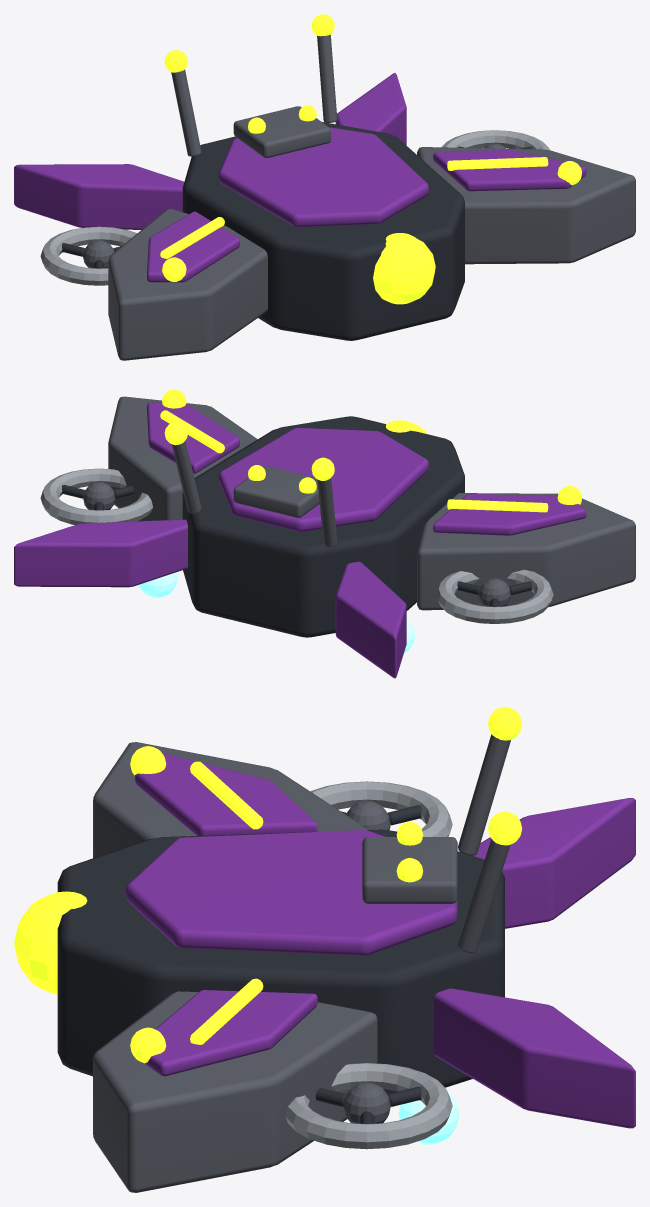
File: aegis_drone_l03.glb
3 renders of one model, top to bottom at view 1: azimuth 30°, elevation 25°; view 2: azimuth 150°, elevation 25°; view 3: azimuth 270°, elevation 25°, orthographic. The views are drawn at different scales.
Visible parts, largest first — view 1: carbon_hull, left_swept_wing, right_swept_wing, upper_violet_armour, left_rear_fin, right_violet_wing_panel, interceptor_eye, left_violet_wing_panel, dorsal_signal_plate, right_rear_fin, left_duct, right_duct (+5 smaller); view 2: carbon_hull, left_swept_wing, upper_violet_armour, right_rear_fin, right_swept_wing, left_rear_fin, left_violet_wing_panel, left_duct, right_duct, right_violet_wing_panel, dorsal_signal_plate, right_aerial (+8 smaller); view 3: carbon_hull, right_swept_wing, upper_violet_armour, right_rear_fin, left_rear_fin, left_swept_wing, right_violet_wing_panel, left_violet_wing_panel, right_duct, dorsal_signal_plate, interceptor_eye, left_duct (+11 smaller).
Boxes of the visible parts, bbox=[...] form: carbon_hull: bbox=[182, 122, 464, 340]; left_swept_wing: bbox=[108, 209, 267, 360]; right_swept_wing: bbox=[417, 147, 635, 264]; upper_violet_armour: bbox=[218, 127, 428, 226]; left_rear_fin: bbox=[14, 164, 184, 229]; right_violet_wing_panel: bbox=[433, 149, 586, 191]; interceptor_eye: bbox=[373, 233, 435, 304]; left_violet_wing_panel: bbox=[147, 211, 239, 282]; dorsal_signal_plate: bbox=[233, 106, 330, 157]; right_rear_fin: bbox=[335, 73, 406, 145]; left_duct: bbox=[40, 226, 137, 285]; right_duct: bbox=[441, 130, 549, 150]; carbon_hull: bbox=[182, 416, 464, 637]; left_swept_wing: bbox=[417, 493, 635, 610]; upper_violet_armour: bbox=[218, 428, 428, 531]; right_rear_fin: bbox=[14, 519, 187, 587]; right_swept_wing: bbox=[108, 396, 257, 521]; left_rear_fin: bbox=[335, 561, 406, 678]; left_violet_wing_panel: bbox=[433, 494, 586, 535]; left_duct: bbox=[436, 569, 553, 623]; right_duct: bbox=[40, 468, 152, 524]; right_violet_wing_panel: bbox=[147, 402, 239, 473]; dorsal_signal_plate: bbox=[233, 466, 319, 517]; right_aerial: bbox=[171, 441, 201, 513]; carbon_hull: bbox=[57, 829, 504, 1094]; right_swept_wing: bbox=[93, 991, 377, 1192]; upper_violet_armour: bbox=[125, 830, 457, 955]; right_rear_fin: bbox=[434, 988, 635, 1128]; left_rear_fin: bbox=[472, 798, 635, 928]; left_swept_wing: bbox=[93, 742, 368, 858]; right_violet_wing_panel: bbox=[143, 990, 317, 1076]; left_violet_wing_panel: bbox=[135, 753, 317, 835]; right_duct: bbox=[285, 1063, 452, 1149]; dorsal_signal_plate: bbox=[362, 837, 457, 903]; interceptor_eye: bbox=[14, 891, 87, 994]; left_duct: bbox=[310, 781, 452, 836].
Bounding box in the file's own units: 0.9128 × 0.344 × 0.6535.
